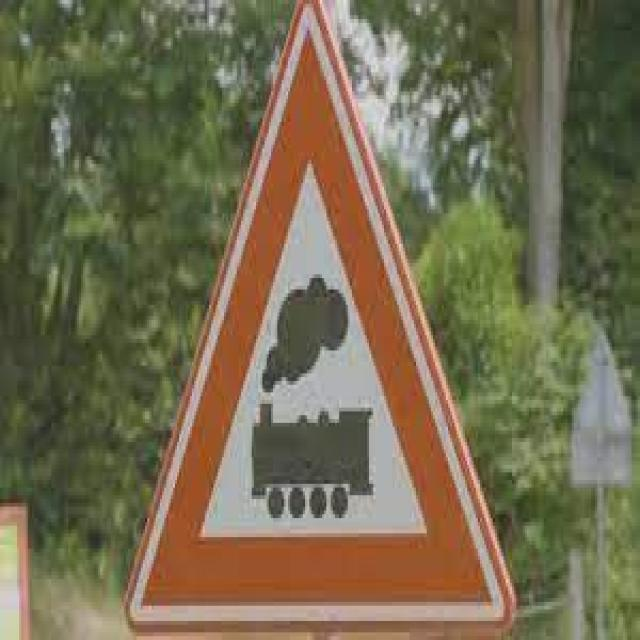unguarded level crossing: (139, 22, 499, 612)
